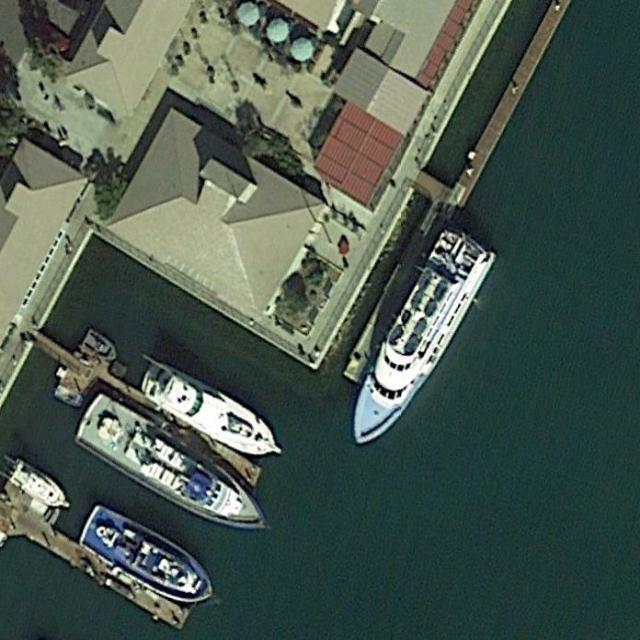ship: (347, 224, 500, 446), (70, 389, 268, 532), (136, 360, 283, 458), (79, 502, 213, 606), (5, 454, 72, 512)
